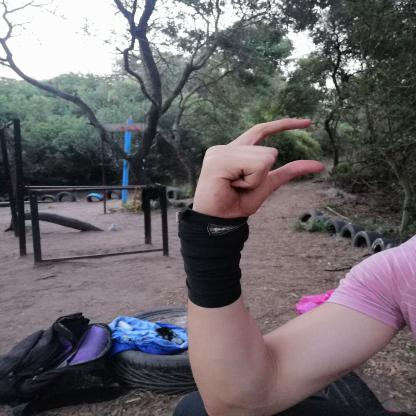DELL: (172, 109, 336, 226)
